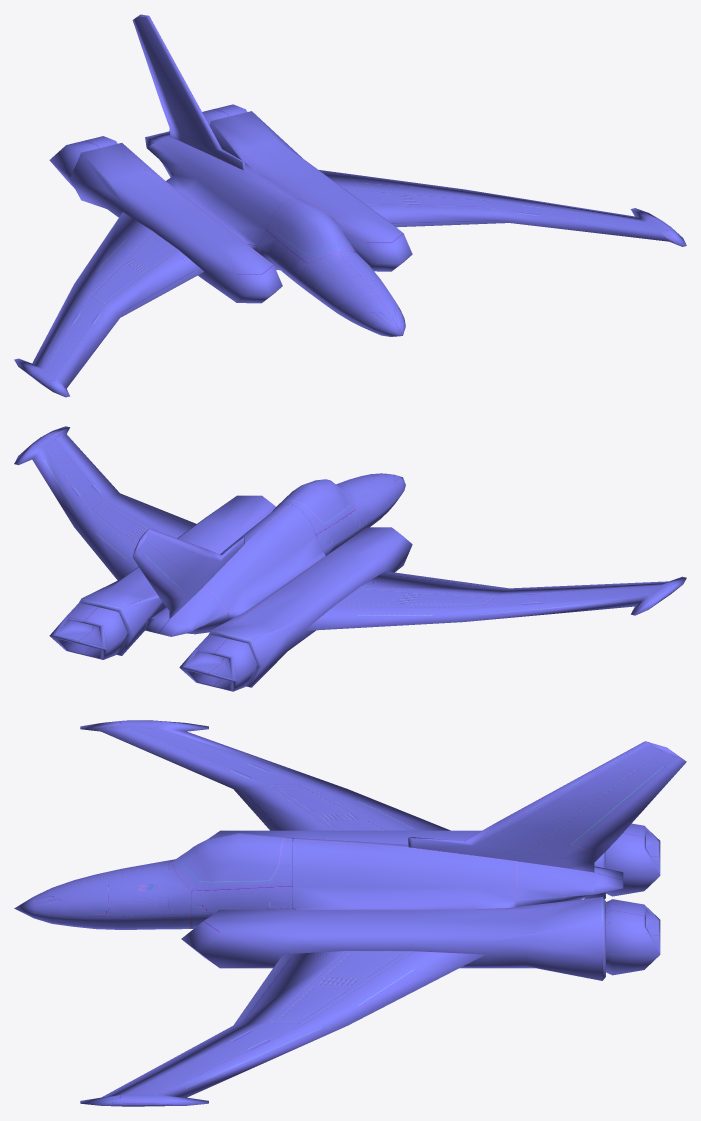
File: SFB-20 Yamir.fbx
3 renders of one model, top to bottom at view 1: azimuth 30°, elevation 25°; view 2: azimuth 150°, elevation 25°; view 3: azimuth 270°, elevation 25°, orthographic. The views are drawn at different scales.
Visible parts, largest first — view 1: SBF-20 Yamir.Wings, SBF-20 Yamir.Body, SBF-20 Yamir.RigthEngine, SBF-20 Yamir.LeftEngine, SBF-20 Yamir.Rudder.001, SBF-20 Yamir.RigthMotor; view 2: SBF-20 Yamir.Wings, SBF-20 Yamir.Body, SBF-20 Yamir.RigthEngine, SBF-20 Yamir.LeftEngine, SBF-20 Yamir.Rudder.001, SBF-20 Yamir.RigthMotor, SBF-20 Yamir.LeftMotor; view 3: SBF-20 Yamir.Body, SBF-20 Yamir.Wings, SBF-20 Yamir.LeftEngine, SBF-20 Yamir.Rudder.001, SBF-20 Yamir.LeftMotor, SBF-20 Yamir.RigthMotor, SBF-20 Yamir.RigthEngine.
Part boxes in pixels (x1,y1,x2,y2): SBF-20 Yamir.Wings: (14, 170, 686, 397); SBF-20 Yamir.Body: (145, 131, 405, 336); SBF-20 Yamir.RigthEngine: (70, 143, 282, 303); SBF-20 Yamir.LeftEngine: (209, 111, 412, 271); SBF-20 Yamir.Rudder.001: (132, 14, 244, 170); SBF-20 Yamir.RigthMotor: (49, 136, 117, 188); SBF-20 Yamir.Wings: (14, 426, 686, 630); SBF-20 Yamir.Body: (145, 473, 405, 636); SBF-20 Yamir.RigthEngine: (209, 527, 412, 687); SBF-20 Yamir.LeftEngine: (79, 495, 275, 655); SBF-20 Yamir.Rudder.001: (132, 528, 244, 618); SBF-20 Yamir.RigthMotor: (179, 634, 257, 691); SBF-20 Yamir.LeftMotor: (49, 603, 127, 659); SBF-20 Yamir.Body: (14, 832, 623, 929); SBF-20 Yamir.Wings: (80, 720, 485, 1106); SBF-20 Yamir.LeftEngine: (181, 897, 605, 980); SBF-20 Yamir.Rudder.001: (408, 741, 686, 872); SBF-20 Yamir.LeftMotor: (606, 899, 660, 975); SBF-20 Yamir.RigthMotor: (606, 823, 660, 896); SBF-20 Yamir.RigthEngine: (210, 830, 605, 899).
Size of the model in its own units: 680 by 156 by 505.
